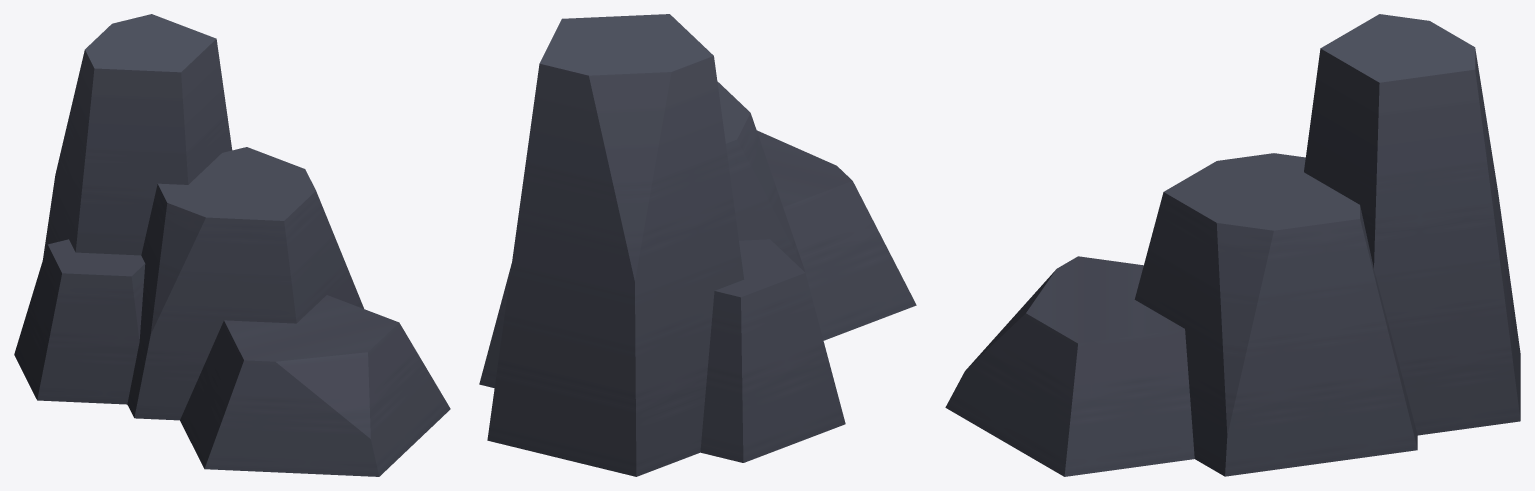
File: rockWide.fbx
The picture shows the model from 3 angles, left to right: view 1: azimuth 30°, elevation 25°; view 2: azimuth 150°, elevation 25°; view 3: azimuth 270°, elevation 25°; orthographic projection. The views are drawn at different scales.
Visible parts, largest first — view 1: rockWide; view 2: rockWide; view 3: rockWide.
Part boxes in pixels (box(x1,y1,x2,y2)): rockWide: box(14, 14, 450, 476); rockWide: box(479, 14, 916, 476); rockWide: box(945, 14, 1520, 476).
Bounding box in the file's own units: 1.09 × 1.57 × 1.02.
